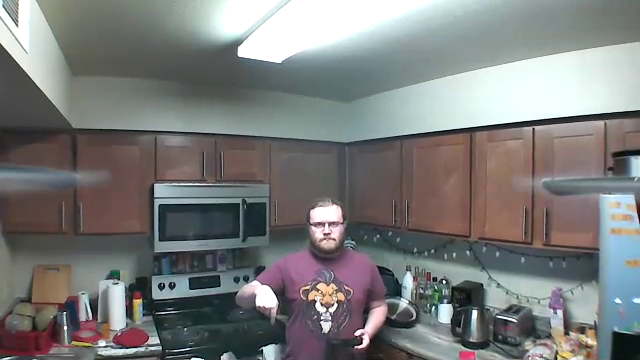down: (254, 281, 280, 328)
